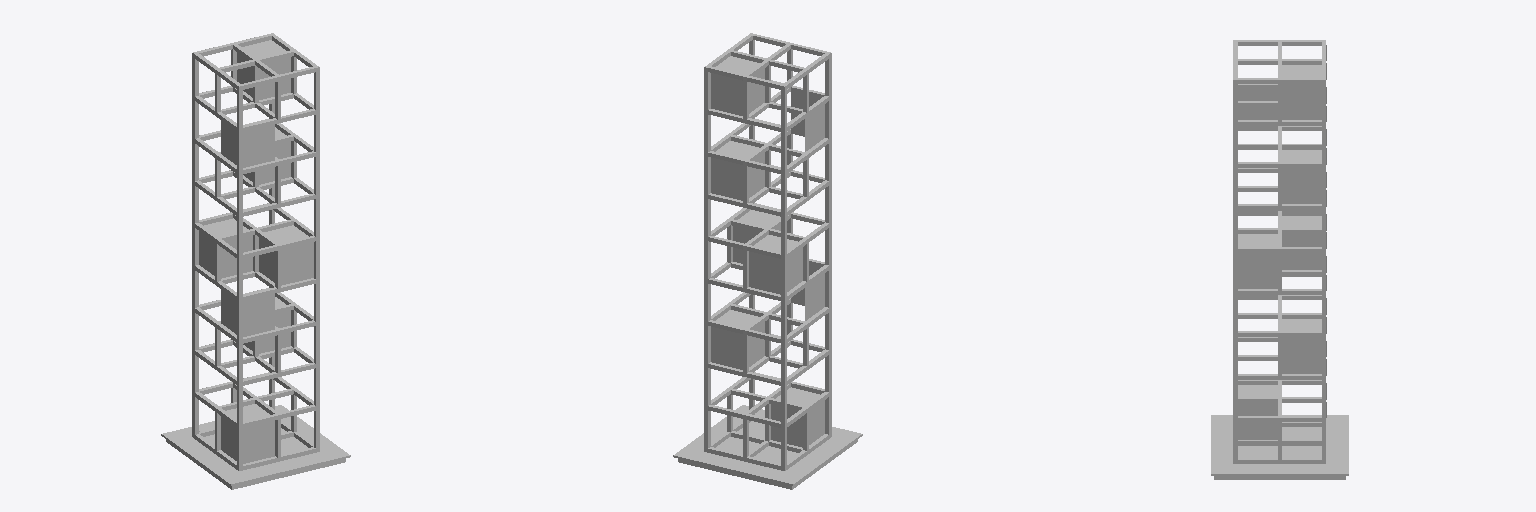
File: floor_lamp.obj
The picture shows the model from 3 angles: view 1: azimuth 30°, elevation 25°; view 2: azimuth 150°, elevation 25°; view 3: azimuth 270°, elevation 25°; orthographic projection.
Parts seen in each view (by area): view 1: Lamp_Lamp_mesh; view 2: Lamp_Lamp_mesh; view 3: Lamp_Lamp_mesh.
Boxes of the visible parts, <box> form: Lamp_Lamp_mesh: <box>161,33,350,489</box>; Lamp_Lamp_mesh: <box>673,33,862,489</box>; Lamp_Lamp_mesh: <box>1211,40,1348,479</box>.
Bounding box in the file's own units: 1.1 × 3.45 × 1.11.